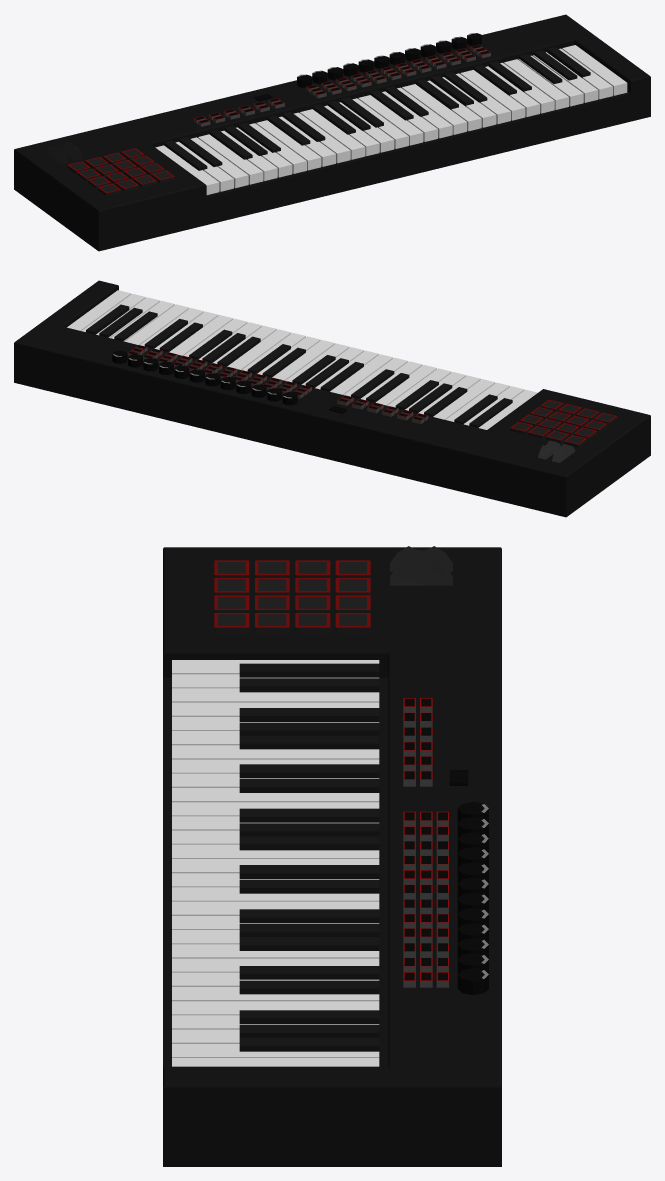
Rendered from Midi Keyboard07.fbx.
3 views of the same model, one above another, from view 1: azimuth 30°, elevation 25°; view 2: azimuth 150°, elevation 25°; view 3: azimuth 270°, elevation 25° (orthographic). The views are drawn at different scales.
Visible parts, largest first — view 1: 49keysmidi.008; view 2: 49keysmidi.008; view 3: 49keysmidi.008.
Boxes of the visible parts, x1=… form: 49keysmidi.008: x1=14, y1=14, x2=650, y2=251; 49keysmidi.008: x1=14, y1=280, x2=650, y2=517; 49keysmidi.008: x1=163, y1=546, x2=501, y2=1166.
Bounding box in the file's own units: 88.07 × 7.64 × 23.4.
